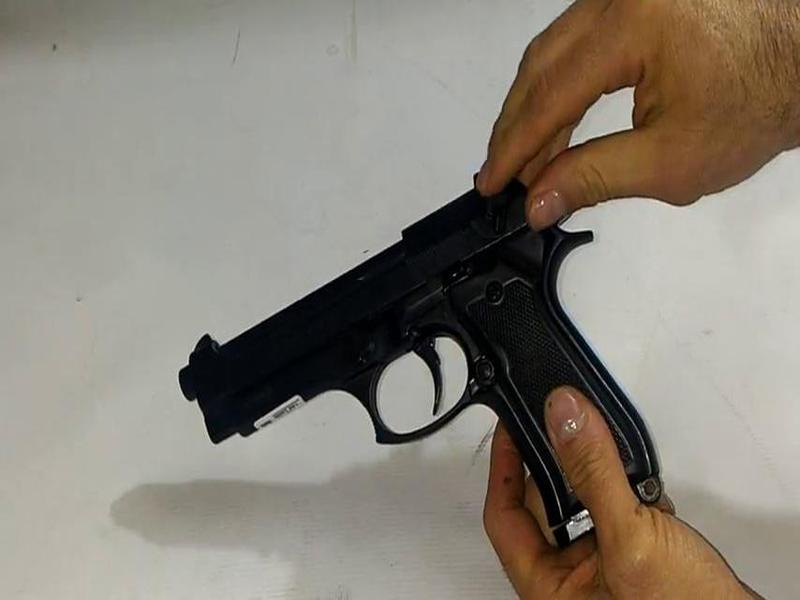Pistola: (146, 156, 702, 553)
